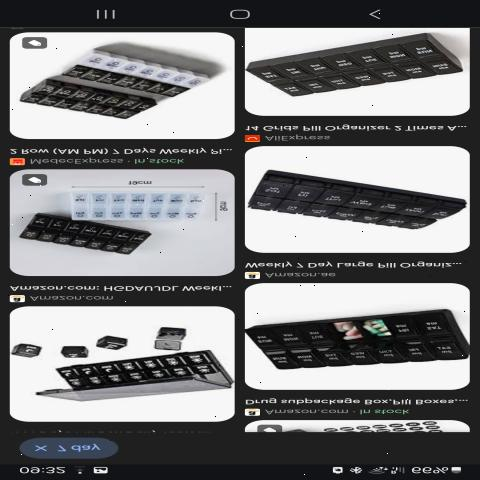PillBox: (240, 298, 475, 373), (251, 34, 468, 109), (247, 171, 463, 237), (40, 346, 230, 415), (53, 50, 237, 96), (11, 216, 166, 259), (11, 84, 167, 126)
